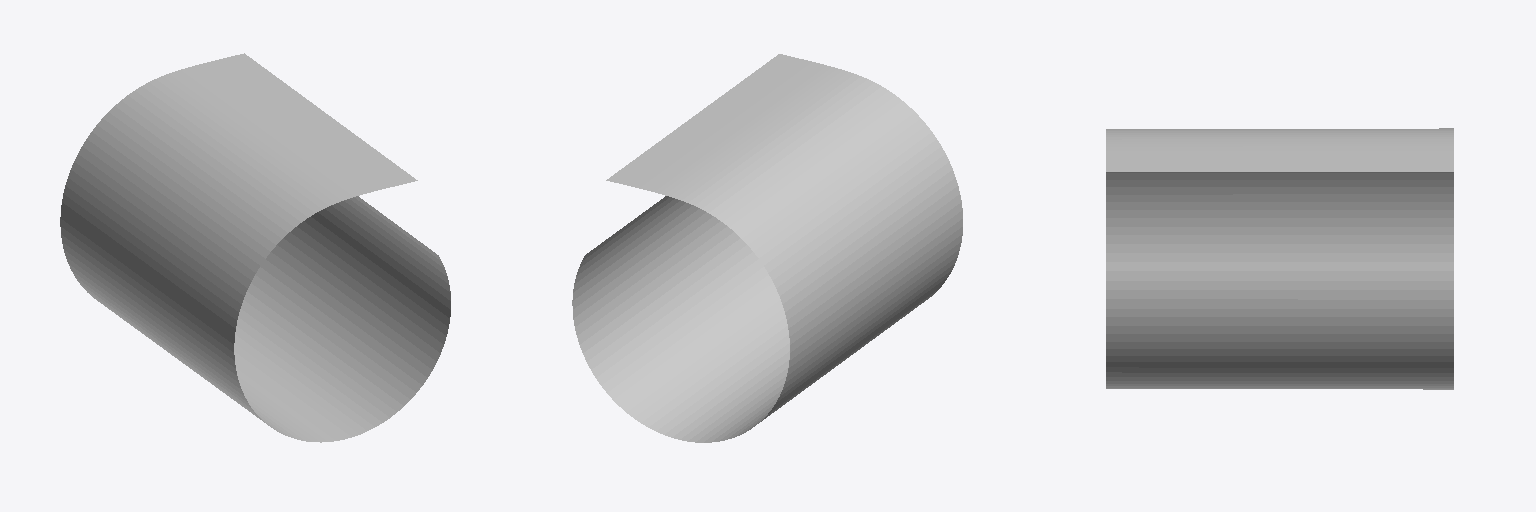
Rendered from CurvePaper_000013.obj.
The picture shows the model from 3 angles: view 1: azimuth 30°, elevation 25°; view 2: azimuth 150°, elevation 25°; view 3: azimuth 270°, elevation 25°; orthographic projection.
Visible parts, largest first — view 1: Plane; view 2: Plane; view 3: Plane.
Part boxes in pixels (bbox=[...]): Plane: bbox=[60, 53, 450, 442]; Plane: bbox=[572, 54, 962, 442]; Plane: bbox=[1106, 128, 1453, 389].
Size of the model in its own units: 1.64 by 1.74 by 2.26.